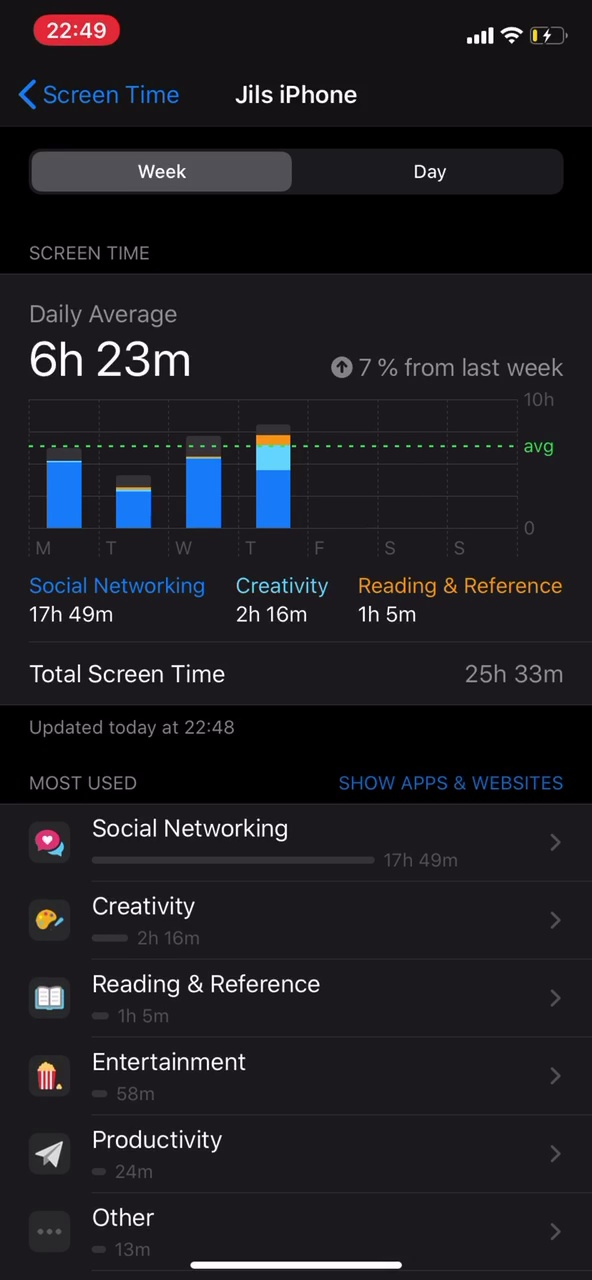use_over: (20, 567, 579, 700)
